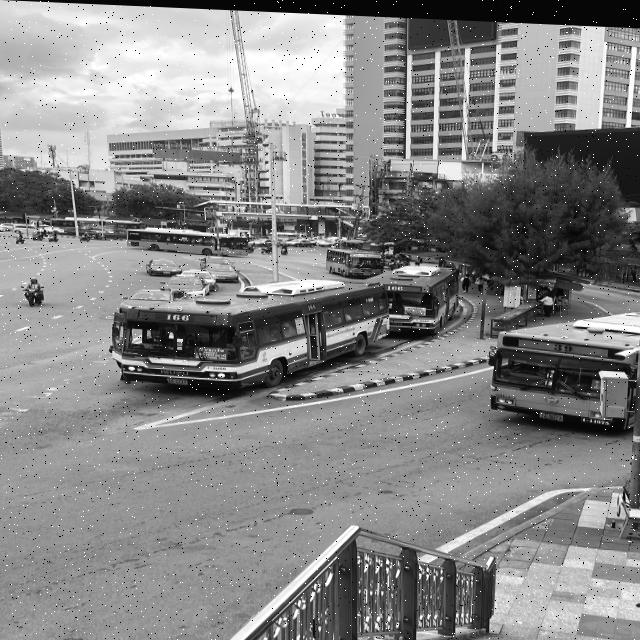BMTA-bus: (111, 268, 392, 393), (488, 305, 640, 428), (369, 261, 462, 335), (126, 225, 252, 256), (75, 217, 147, 232)
Bus-Line-Number: (548, 338, 578, 350), (162, 311, 195, 320), (386, 281, 406, 288)
Destination-Sign-Extra-Bus: (195, 344, 228, 360)
Destination-Sign-Normal: (590, 374, 600, 384)
Destination-Sign-Normal-Expressway: (402, 303, 428, 312)
